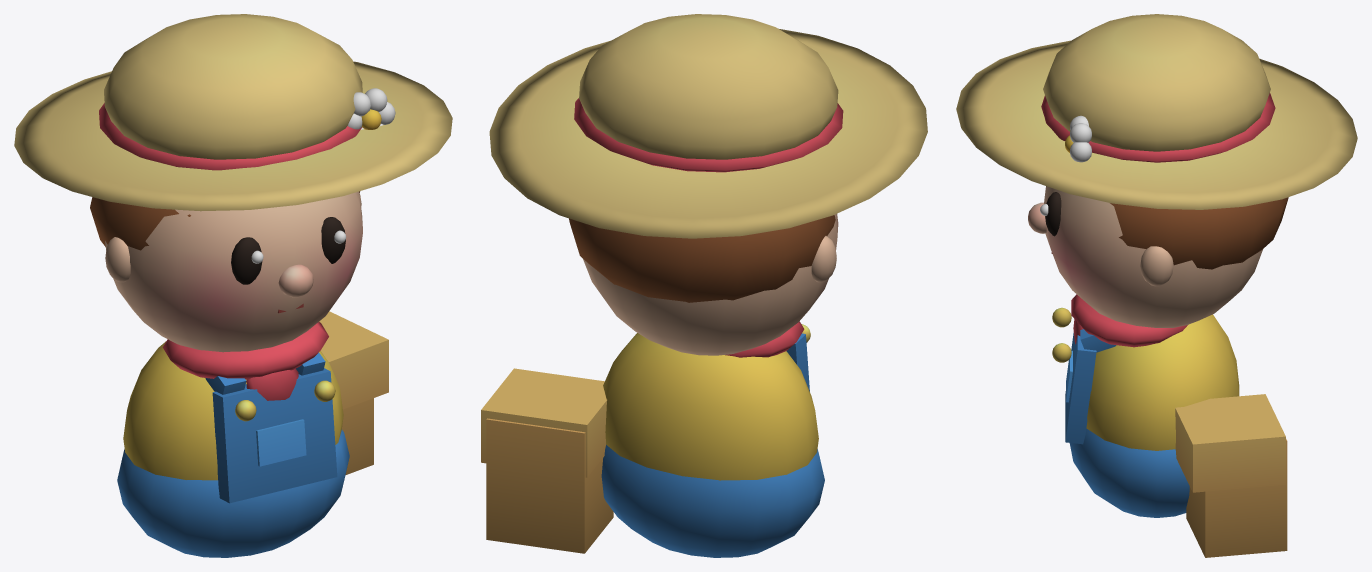
File: storybook-gardener.glb
3 views of the same model, side by side, from view 1: azimuth 30°, elevation 25°; view 2: azimuth 150°, elevation 25°; view 3: azimuth 270°, elevation 25° (orthographic). The views are drawn at different scales.
Visible parts, largest first — view 1: storybook-gardener; view 2: storybook-gardener; view 3: storybook-gardener.
Part boxes in pixels (x1,y1,x2,y2): storybook-gardener: (14,14,452,557); storybook-gardener: (481,14,927,557); storybook-gardener: (956,14,1357,557).
Size of the model in its own units: 1.06 by 1.36 by 1.06.
